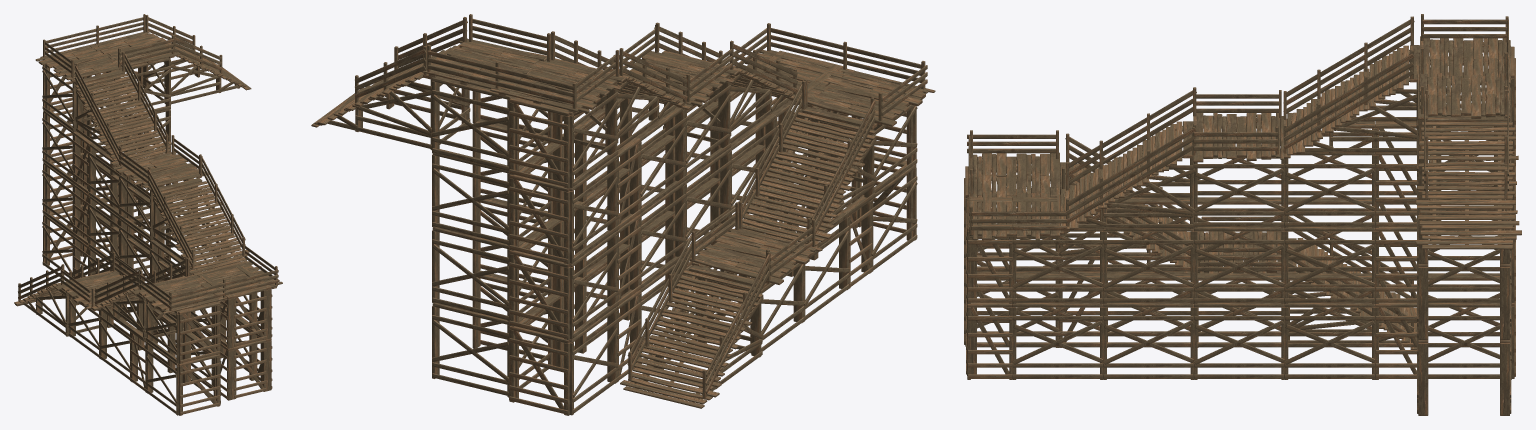
File: SM_Construction4.fbx
3 views of the same model, side by side, from view 1: azimuth 30°, elevation 25°; view 2: azimuth 150°, elevation 25°; view 3: azimuth 270°, elevation 25° (orthographic). The views are drawn at different scales.
Parts seen in each view (by area): view 1: SM_Construction4_LOD0; view 2: SM_Construction4_LOD0; view 3: SM_Construction4_LOD0.
Boxes of the visible parts, x1=… form: SM_Construction4_LOD0: x1=14, y1=14, x2=282, y2=415; SM_Construction4_LOD0: x1=311, y1=14, x2=935, y2=415; SM_Construction4_LOD0: x1=964, y1=14, x2=1521, y2=415.
Bounding box in the file's own units: 1817 × 2461 × 1650.
Materials: 1 (1 with a texture image).
